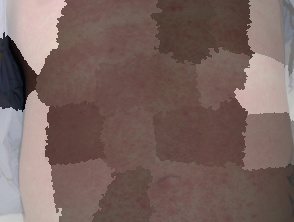SJS-TEN: (3, 0, 294, 222)
